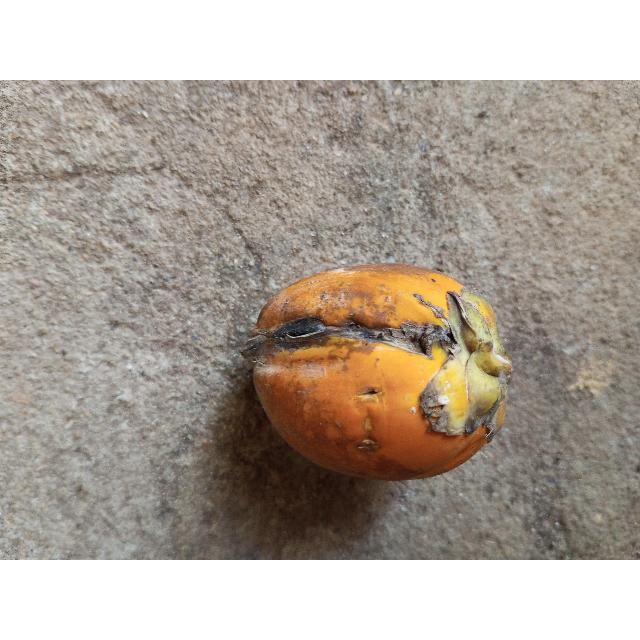damaged: (242, 265, 512, 483)
